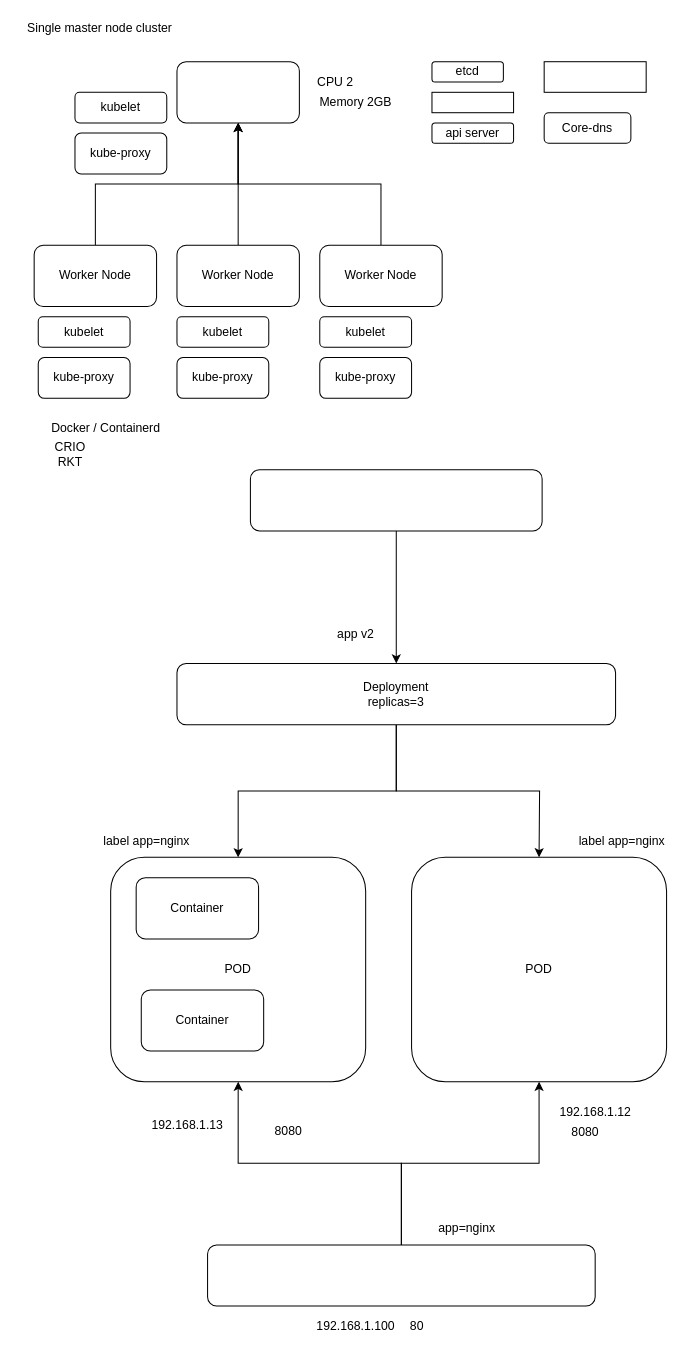
This 690x1354 diagram has some shape labels left out. Each missing label, with the centre of its shape:
"controller manager" belongs at (594,76).
"HorizontalPodAutoscaler" belongs at (395,500).
"Master" belongs at (237,92).
"scheduler" belongs at (472,102).
"Service" belongs at (401,1275).
